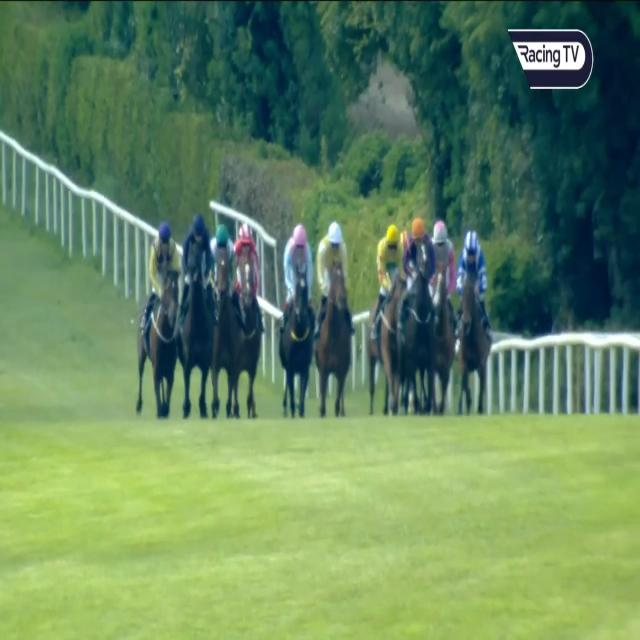horses-racing: (279, 218, 318, 418), (316, 215, 354, 415), (143, 225, 180, 424), (400, 218, 433, 410), (207, 222, 238, 420), (429, 216, 458, 416), (182, 216, 208, 421), (235, 224, 261, 428), (373, 222, 397, 417), (464, 223, 488, 418)
